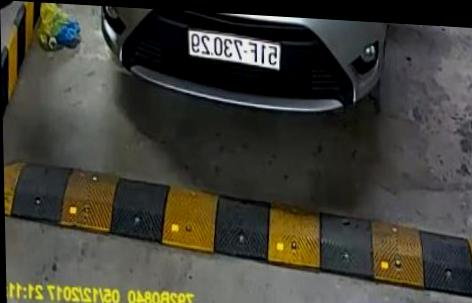License_Plate: (181, 29, 283, 72)
